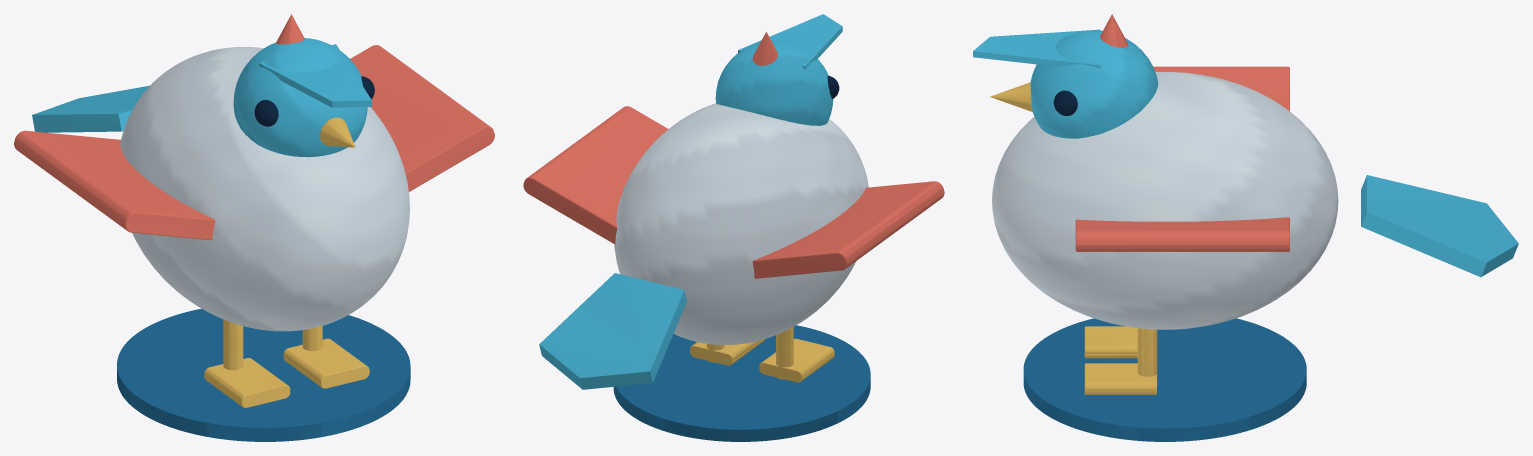
Rendered from 0083_鸟类图鉴_白头海雕.glb.
3 renders of one model, left to right at view 1: azimuth 30°, elevation 25°; view 2: azimuth 150°, elevation 25°; view 3: azimuth 270°, elevation 25°, orthographic. The views are drawn at different scales.
Parts seen in each view (by area): view 1: card_0083; view 2: card_0083; view 3: card_0083.
Boxes of the visible parts, <box> form: card_0083: <box>14,14,494,441</box>; card_0083: <box>523,14,944,441</box>; card_0083: <box>973,14,1518,441</box>.
Size of the model in its own units: 1 by 1 by 1.34.
